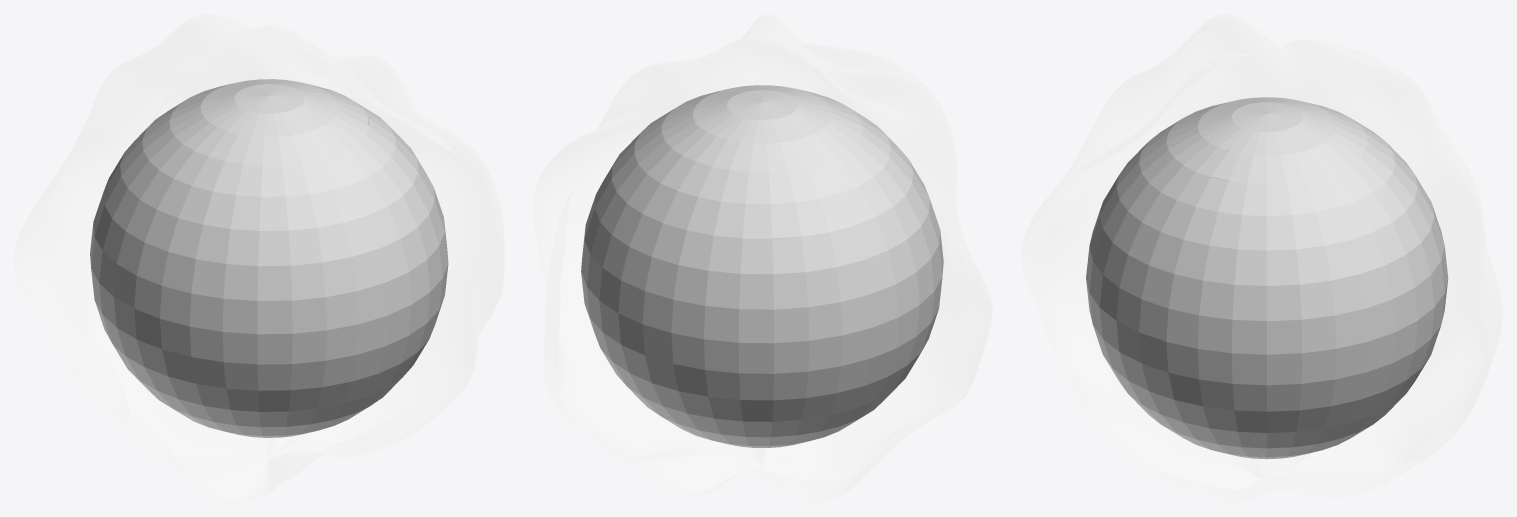
The model's file is sun.glb.
3 renders of one model, left to right at view 1: azimuth 30°, elevation 25°; view 2: azimuth 150°, elevation 25°; view 3: azimuth 270°, elevation 25°, orthographic.
Parts seen in each view (by area): view 1: Sphere.002; view 2: Sphere.002; view 3: Sphere.002.
Part boxes in pixels (bbox=[...]): Sphere.002: bbox=[14, 14, 504, 502]; Sphere.002: bbox=[533, 14, 992, 502]; Sphere.002: bbox=[1021, 14, 1502, 502].
Size of the model in its own units: 1.55 by 1.58 by 1.54.
2 materials, 1 textured.
